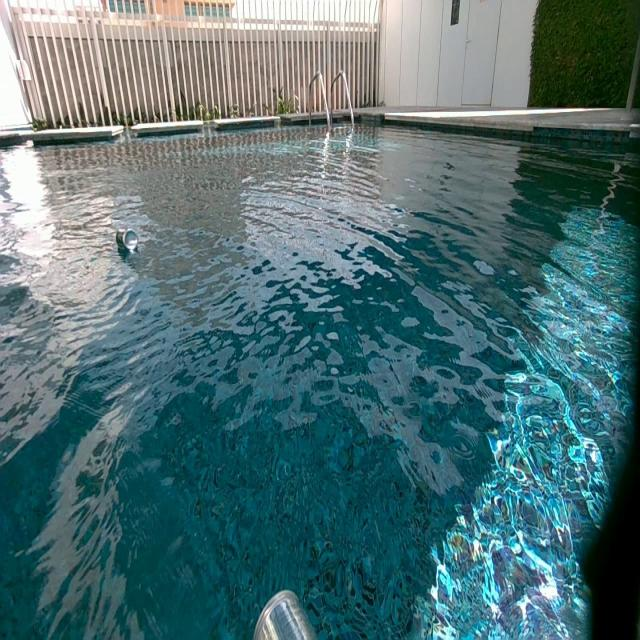Cans: (251, 590, 321, 640), (117, 229, 140, 253)
